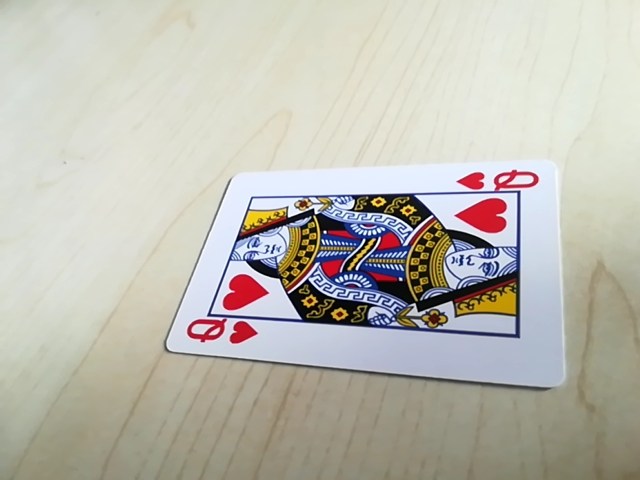hx q: (181, 317, 260, 351), (456, 164, 545, 194)
